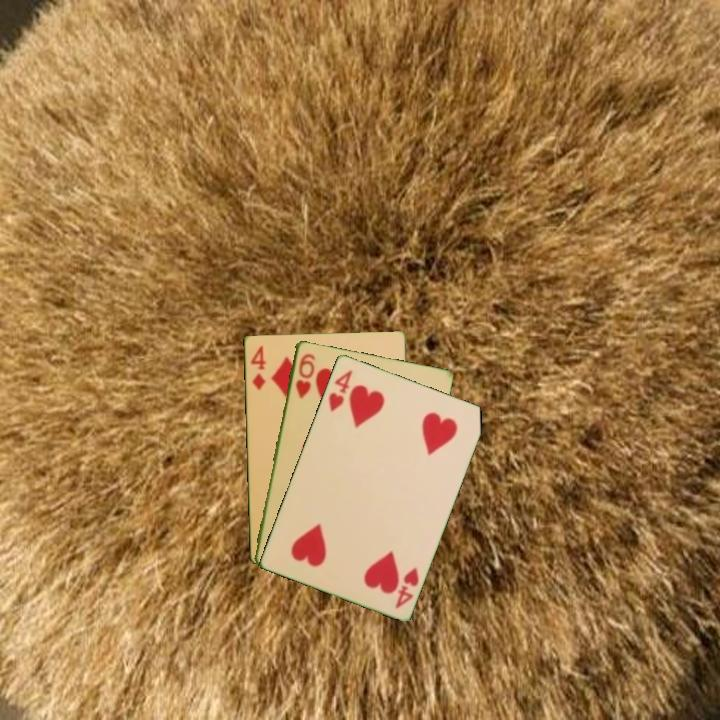4d: (247, 342, 269, 393)
4h: (325, 366, 355, 414), (391, 564, 421, 611)
6h: (292, 350, 318, 401)
